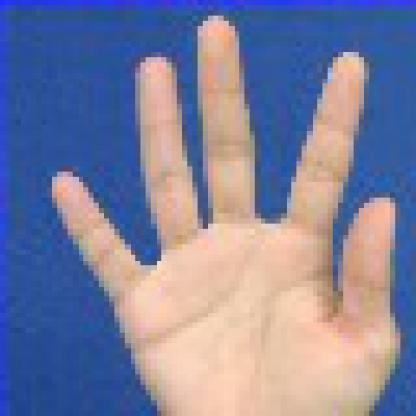five: (41, 5, 410, 411)
